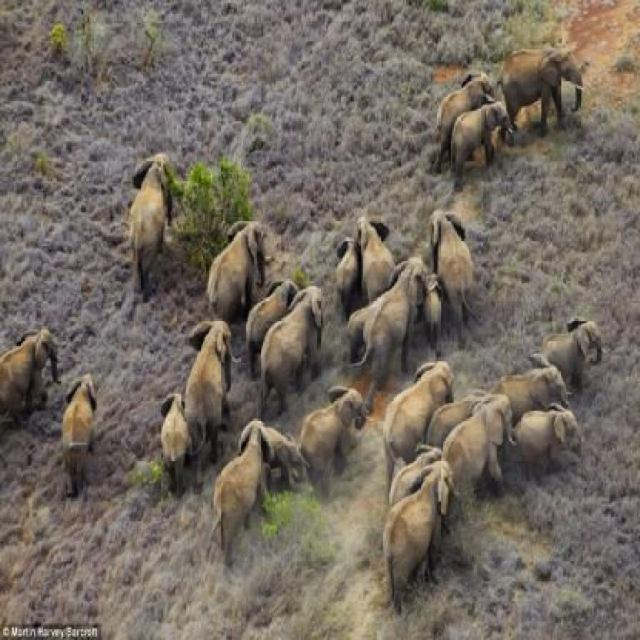elephant: (345, 256, 437, 382), (384, 468, 464, 606), (369, 343, 466, 451), (200, 412, 272, 545), (258, 274, 330, 394), (230, 244, 296, 370), (125, 142, 183, 281), (498, 33, 578, 133), (416, 202, 496, 298), (0, 314, 65, 432), (291, 383, 372, 471), (502, 412, 592, 483), (192, 314, 237, 452), (211, 199, 272, 296), (461, 392, 516, 496), (425, 52, 490, 139), (534, 300, 604, 378), (347, 205, 399, 307), (63, 365, 105, 483), (446, 92, 511, 168), (148, 388, 189, 486), (383, 435, 443, 499), (506, 362, 568, 418), (408, 270, 443, 327), (264, 428, 296, 488), (331, 216, 358, 278)
